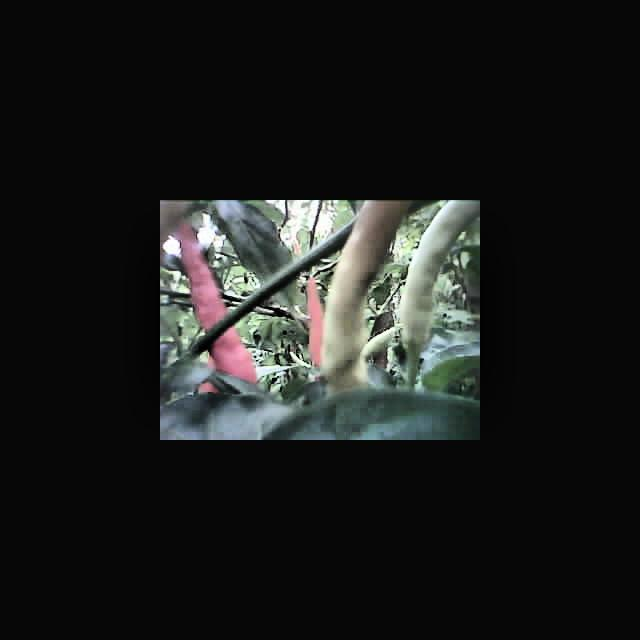Cabai: (174, 226, 269, 396), (305, 279, 324, 346)
